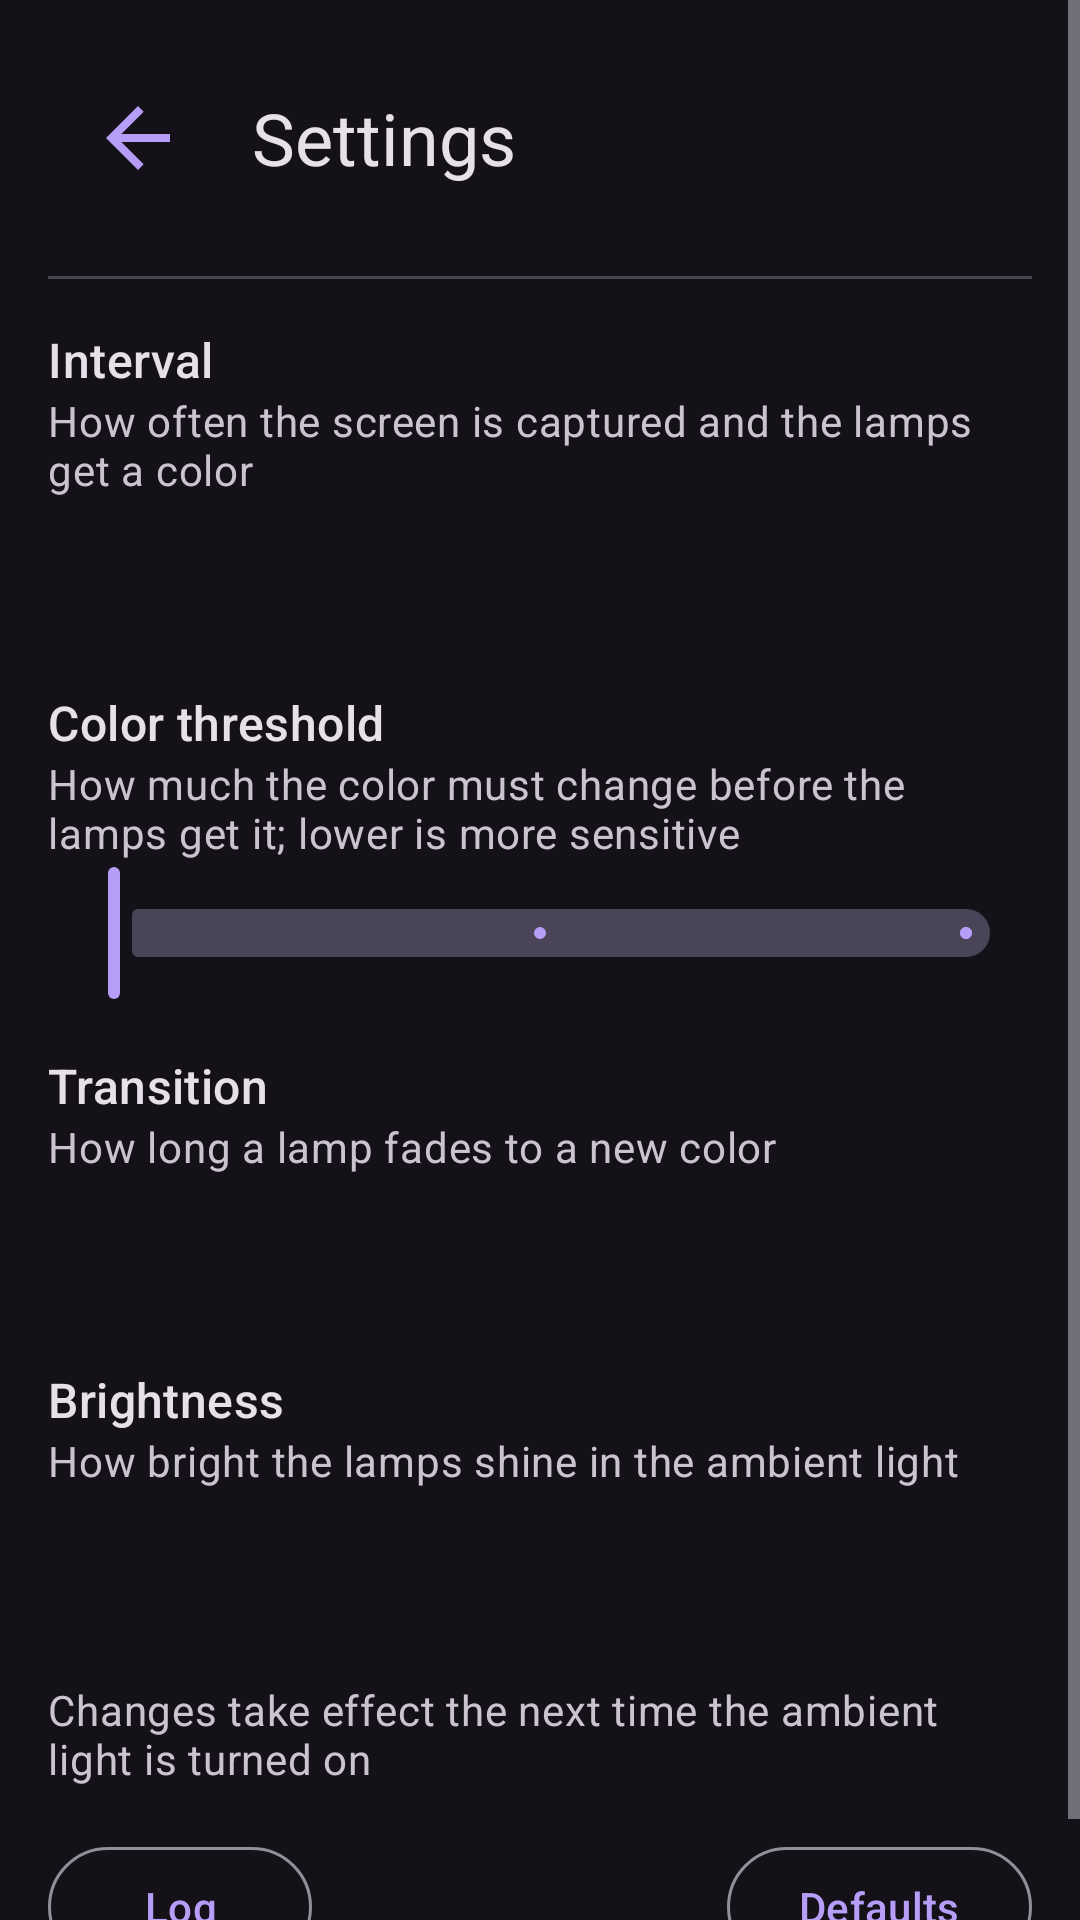

Where icons sit on this 1080*1920 app screen, as (x1, y1, x2, y2):
Back: (106, 106, 170, 170)
